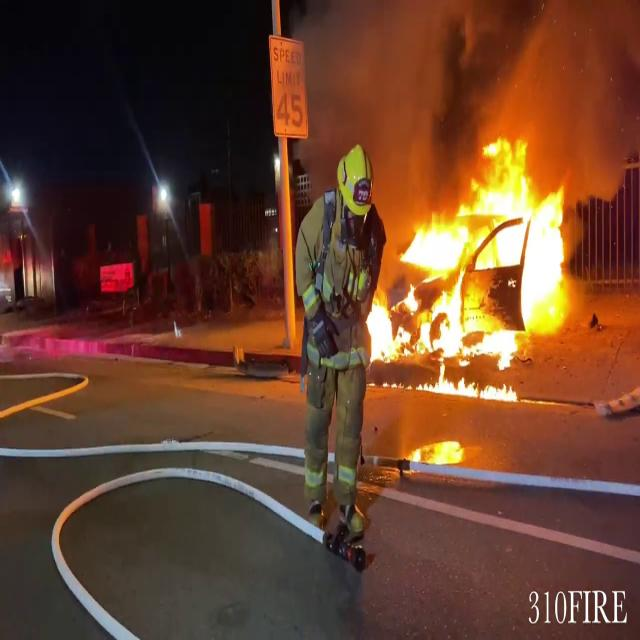Fire: (367, 131, 570, 355), (386, 361, 520, 399), (404, 432, 471, 472)
Smoke: (298, 0, 633, 209)
